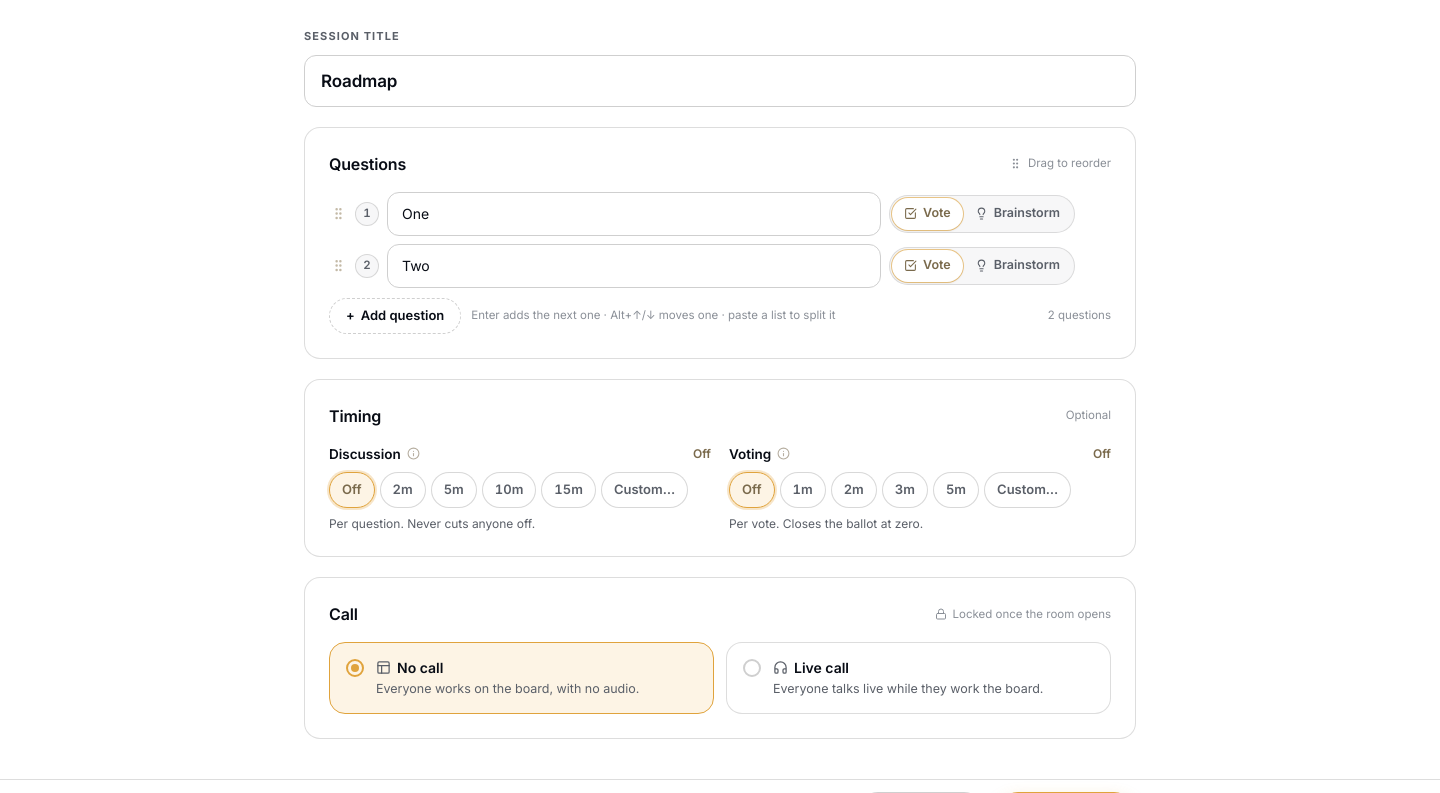
Test case: SessionQuestionsForm › sums the session up in the footer
Step 1. Click the button "5m" below "Discussion" → (454, 490), box [431,472,477,508]
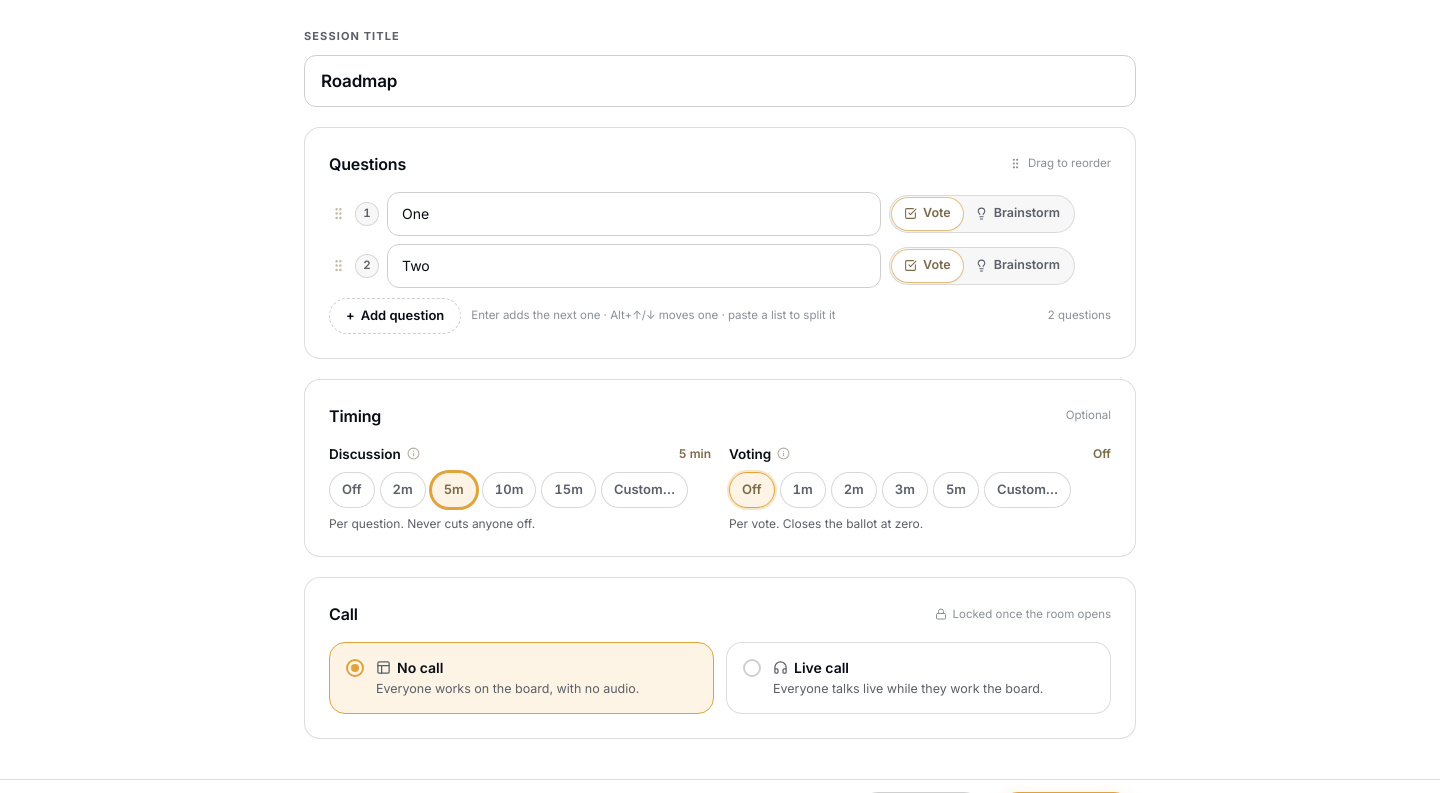
Step 2. Click the button "2m" below "Voting" → (854, 490), box [831,472,877,508]
(page scrolled)
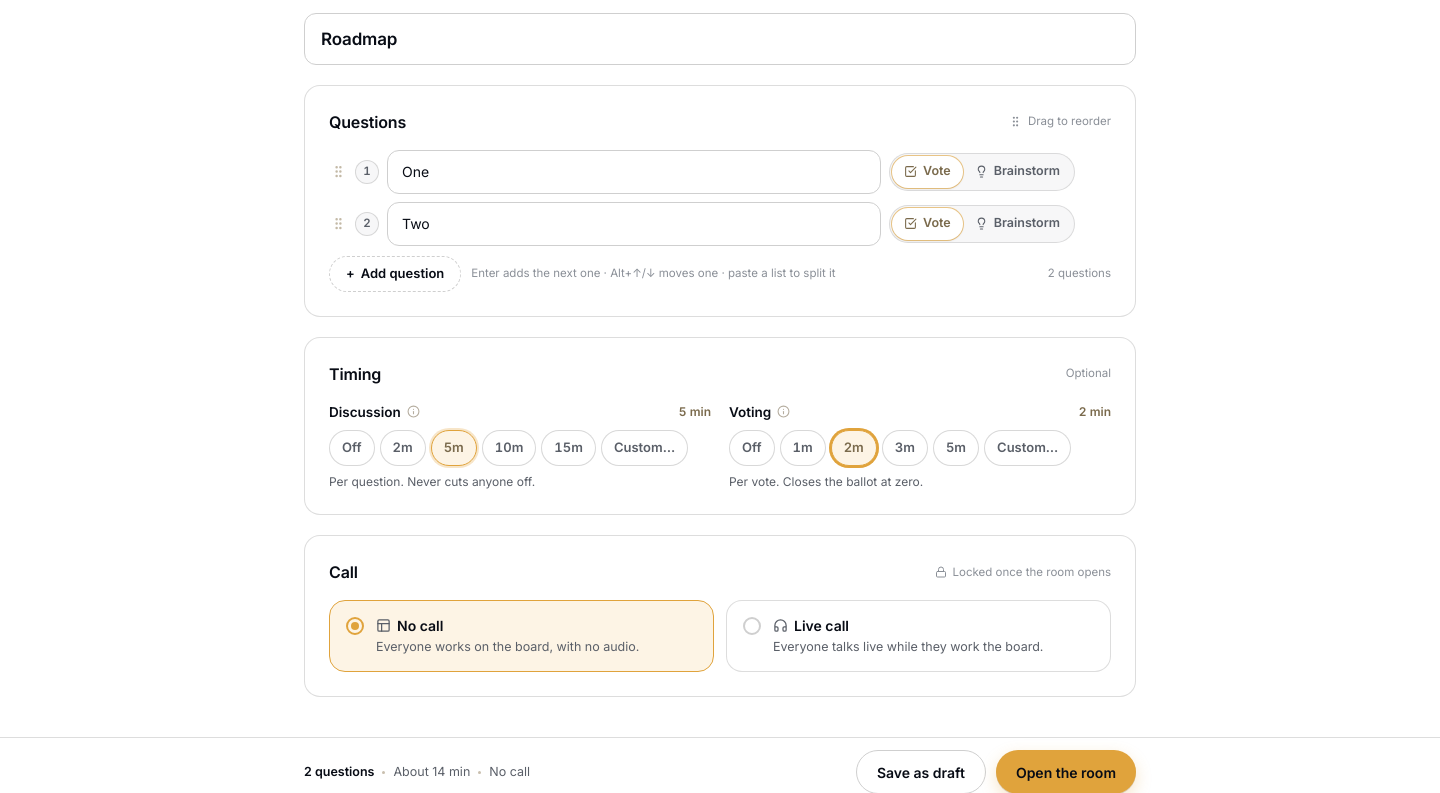
Now the footer shows "About 14 min", box [394,764,470,779]
